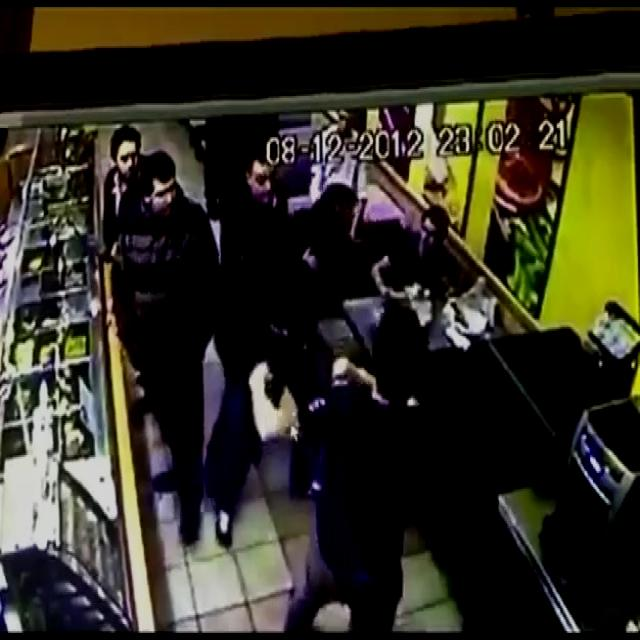fight: (240, 149, 456, 381)
